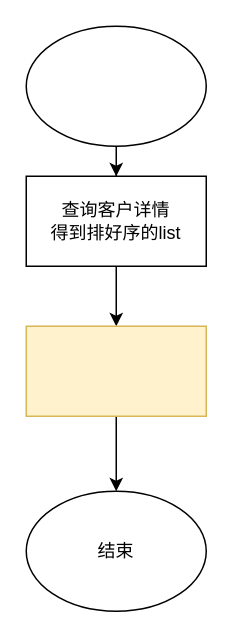
Some shapes in this 233 by 638 pixel diagram are drawn without their labels. Here are the shapes that lost their labels. From the top down, the box of each, then its label:
(25, 25, 206, 146): 开始
(25, 325, 206, 416): 联查客户报备历史记录表，并和原有list进行排序
